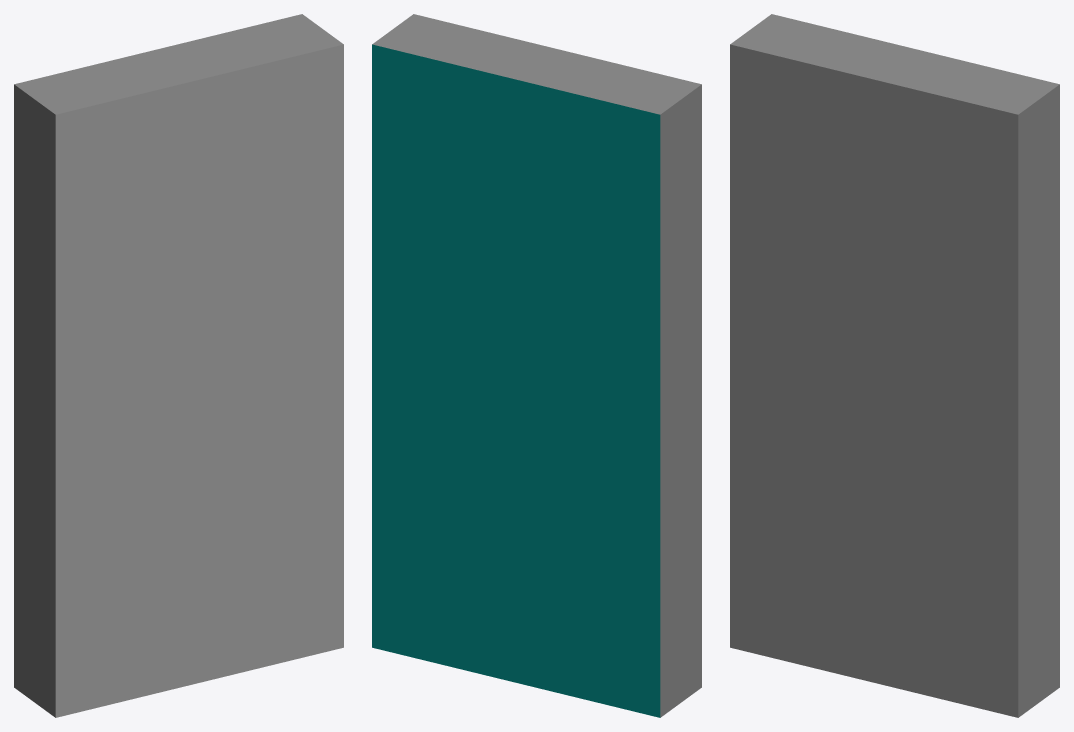
The model's file is EN_W_wall_2x4_transition.fbx.
The picture shows the model from 3 angles, left to right: view 1: azimuth 30°, elevation 25°; view 2: azimuth 150°, elevation 25°; view 3: azimuth 330°, elevation 25°; orthographic projection.
Parts seen in each view (by area): view 1: EN_W_wall_2x4_transition; view 2: EN_W_wall_2x4_transition; view 3: EN_W_wall_2x4_transition.
Part boxes in pixels (x1,y1,x2,y2): EN_W_wall_2x4_transition: (14,14,343,717); EN_W_wall_2x4_transition: (372,14,701,717); EN_W_wall_2x4_transition: (730,14,1059,717).
Size of the model in its own units: 200 by 400 by 50.
